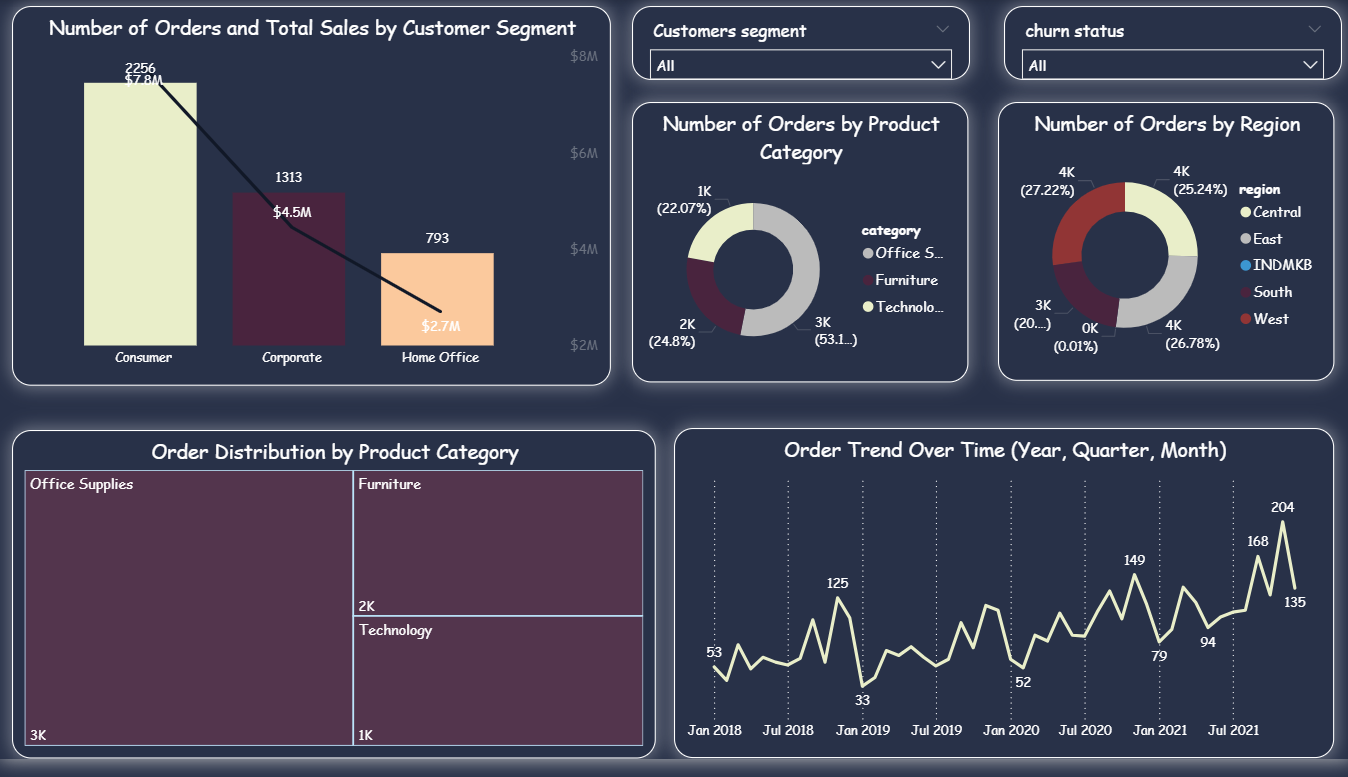

The dashboard page shown, as its layout file describes it:
{"tool":"powerbi","page":{"name":"Orders","canvas":[1280,720],"ordinal":1},"visuals":[{"type":"treemap","title":"Order Distribution by Product Category","fields":{"Group":["dim_product.category Hierarchy.category","dim_product.category Hierarchy.subcategory","dim_product.category Hierarchy.product"],"Values":["DaxMeasureas.# Orders"]},"box":[10.6,409.5,609.7,310.9],"z":0},{"type":"lineChart","title":"Order Trend Over Time (Year, Quarter, Month)","fields":{"Y":["DaxMeasureas.# Orders"],"Category":["dim_date.full_date.Variation.Date Hierarchy.Year","dim_date.full_date.Variation.Date Hierarchy.Quarter","dim_date.full_date.Variation.Date Hierarchy.Month"]},"box":[638.5,408,624.8,312.4],"z":1000},{"type":"donutChart","title":"Number of Orders by Product Category","fields":{"Y":["DaxMeasureas.# Orders"],"Category":["dim_product.category Hierarchy.category"]},"box":[597.5,98.6,318.5,265.4],"z":2000},{"type":"donutChart","title":"Number of Orders by Region","fields":{"Y":["DaxMeasureas.# Orders"],"Series":["dim_customer.region"]},"box":[944.8,98.6,318.5,263.9],"z":3000},{"type":"lineClusteredColumnComboChart","title":"Number of Orders and Total Sales by Customer Segment","fields":{"Y":["DaxMeasureas.# Orders"],"Category":["dim_customer.segment"],"Y2":["DaxMeasureas.Total Sales"]},"box":[10.6,7.6,567.2,359.4],"z":4000},{"type":"slicer","fields":{"Values":["fact_sales.churn_status"]},"box":[950.9,7.6,320,69.8],"z":5000},{"type":"slicer","fields":{"Values":["dim_customer.segment"]},"box":[597.5,7.6,320,69.8],"z":6000}]}

Visuals, with their boxes in screenshot pixels (x1, y1, x2, y2), scaled from the page's 1280x720 canvas onto the 1348x777 screenshot:
"Order Distribution by Product Category" treemap: bbox(11, 442, 653, 776)
"Order Trend Over Time (Year, Quarter, Month)" lineChart: bbox(672, 440, 1330, 776)
"Number of Orders by Product Category" donutChart: bbox(629, 106, 965, 393)
"Number of Orders by Region" donutChart: bbox(995, 106, 1330, 391)
"Number of Orders and Total Sales by Customer Segment" lineClusteredColumnComboChart: bbox(11, 8, 608, 396)
slicer - fact_sales.churn_status: bbox(1001, 8, 1338, 84)
slicer - dim_customer.segment: bbox(629, 8, 966, 84)
